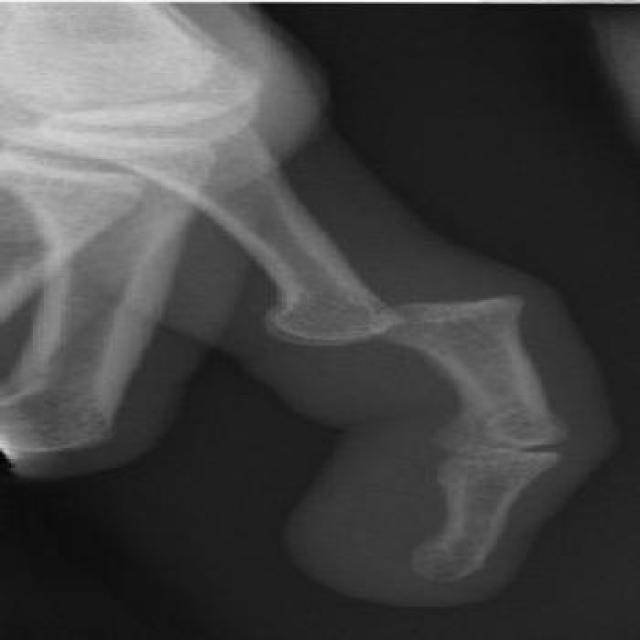Fracture: (297, 277, 539, 352)
